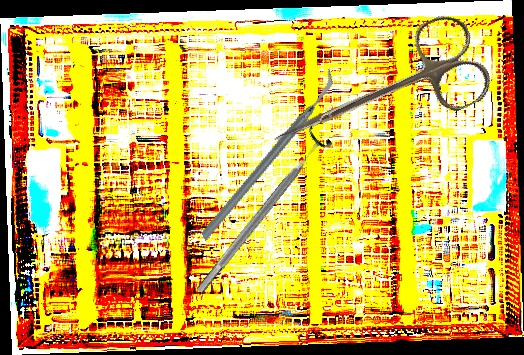Chopper: (161, 68, 374, 241)
Fixation Ring: (187, 124, 334, 301)
Iris Scissors: (256, 7, 498, 187)
